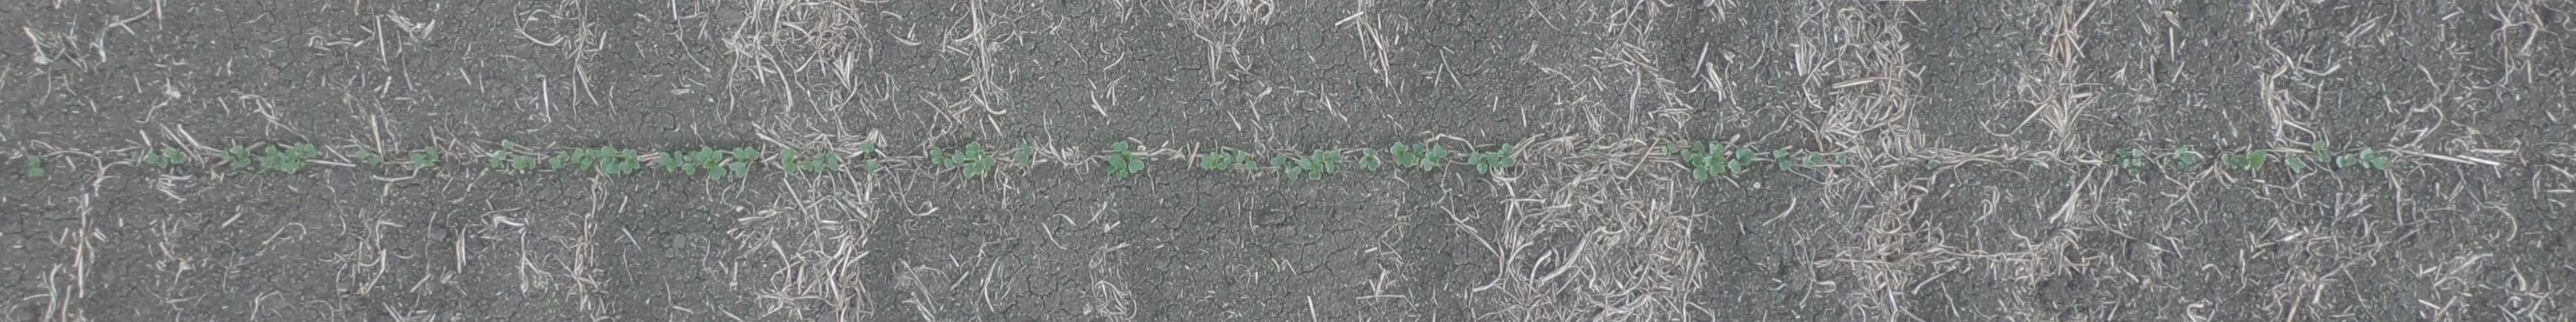clumped: (659, 146, 724, 181), (1272, 149, 1342, 181), (1682, 140, 1727, 182), (1390, 141, 1446, 171), (1201, 146, 1258, 172), (954, 143, 994, 179), (498, 138, 536, 172), (598, 146, 639, 174), (278, 140, 314, 171), (2224, 148, 2269, 172), (2116, 148, 2147, 176), (217, 145, 251, 169), (148, 146, 186, 168)
isolated: (1109, 141, 1145, 176), (729, 148, 759, 179), (409, 146, 442, 169), (2359, 148, 2389, 172), (780, 149, 807, 176), (1469, 153, 1500, 172), (1728, 148, 1750, 176), (353, 146, 379, 166), (2313, 140, 2333, 166), (861, 143, 879, 171), (1357, 148, 1380, 169), (2173, 146, 2198, 166), (25, 153, 43, 179), (930, 148, 951, 169), (2282, 153, 2305, 172), (813, 156, 839, 172), (545, 149, 567, 169), (572, 149, 591, 171), (1773, 148, 1791, 171), (256, 145, 274, 166), (1015, 143, 1033, 164), (1500, 145, 1518, 166), (1801, 151, 1824, 168), (2336, 153, 2356, 169)
